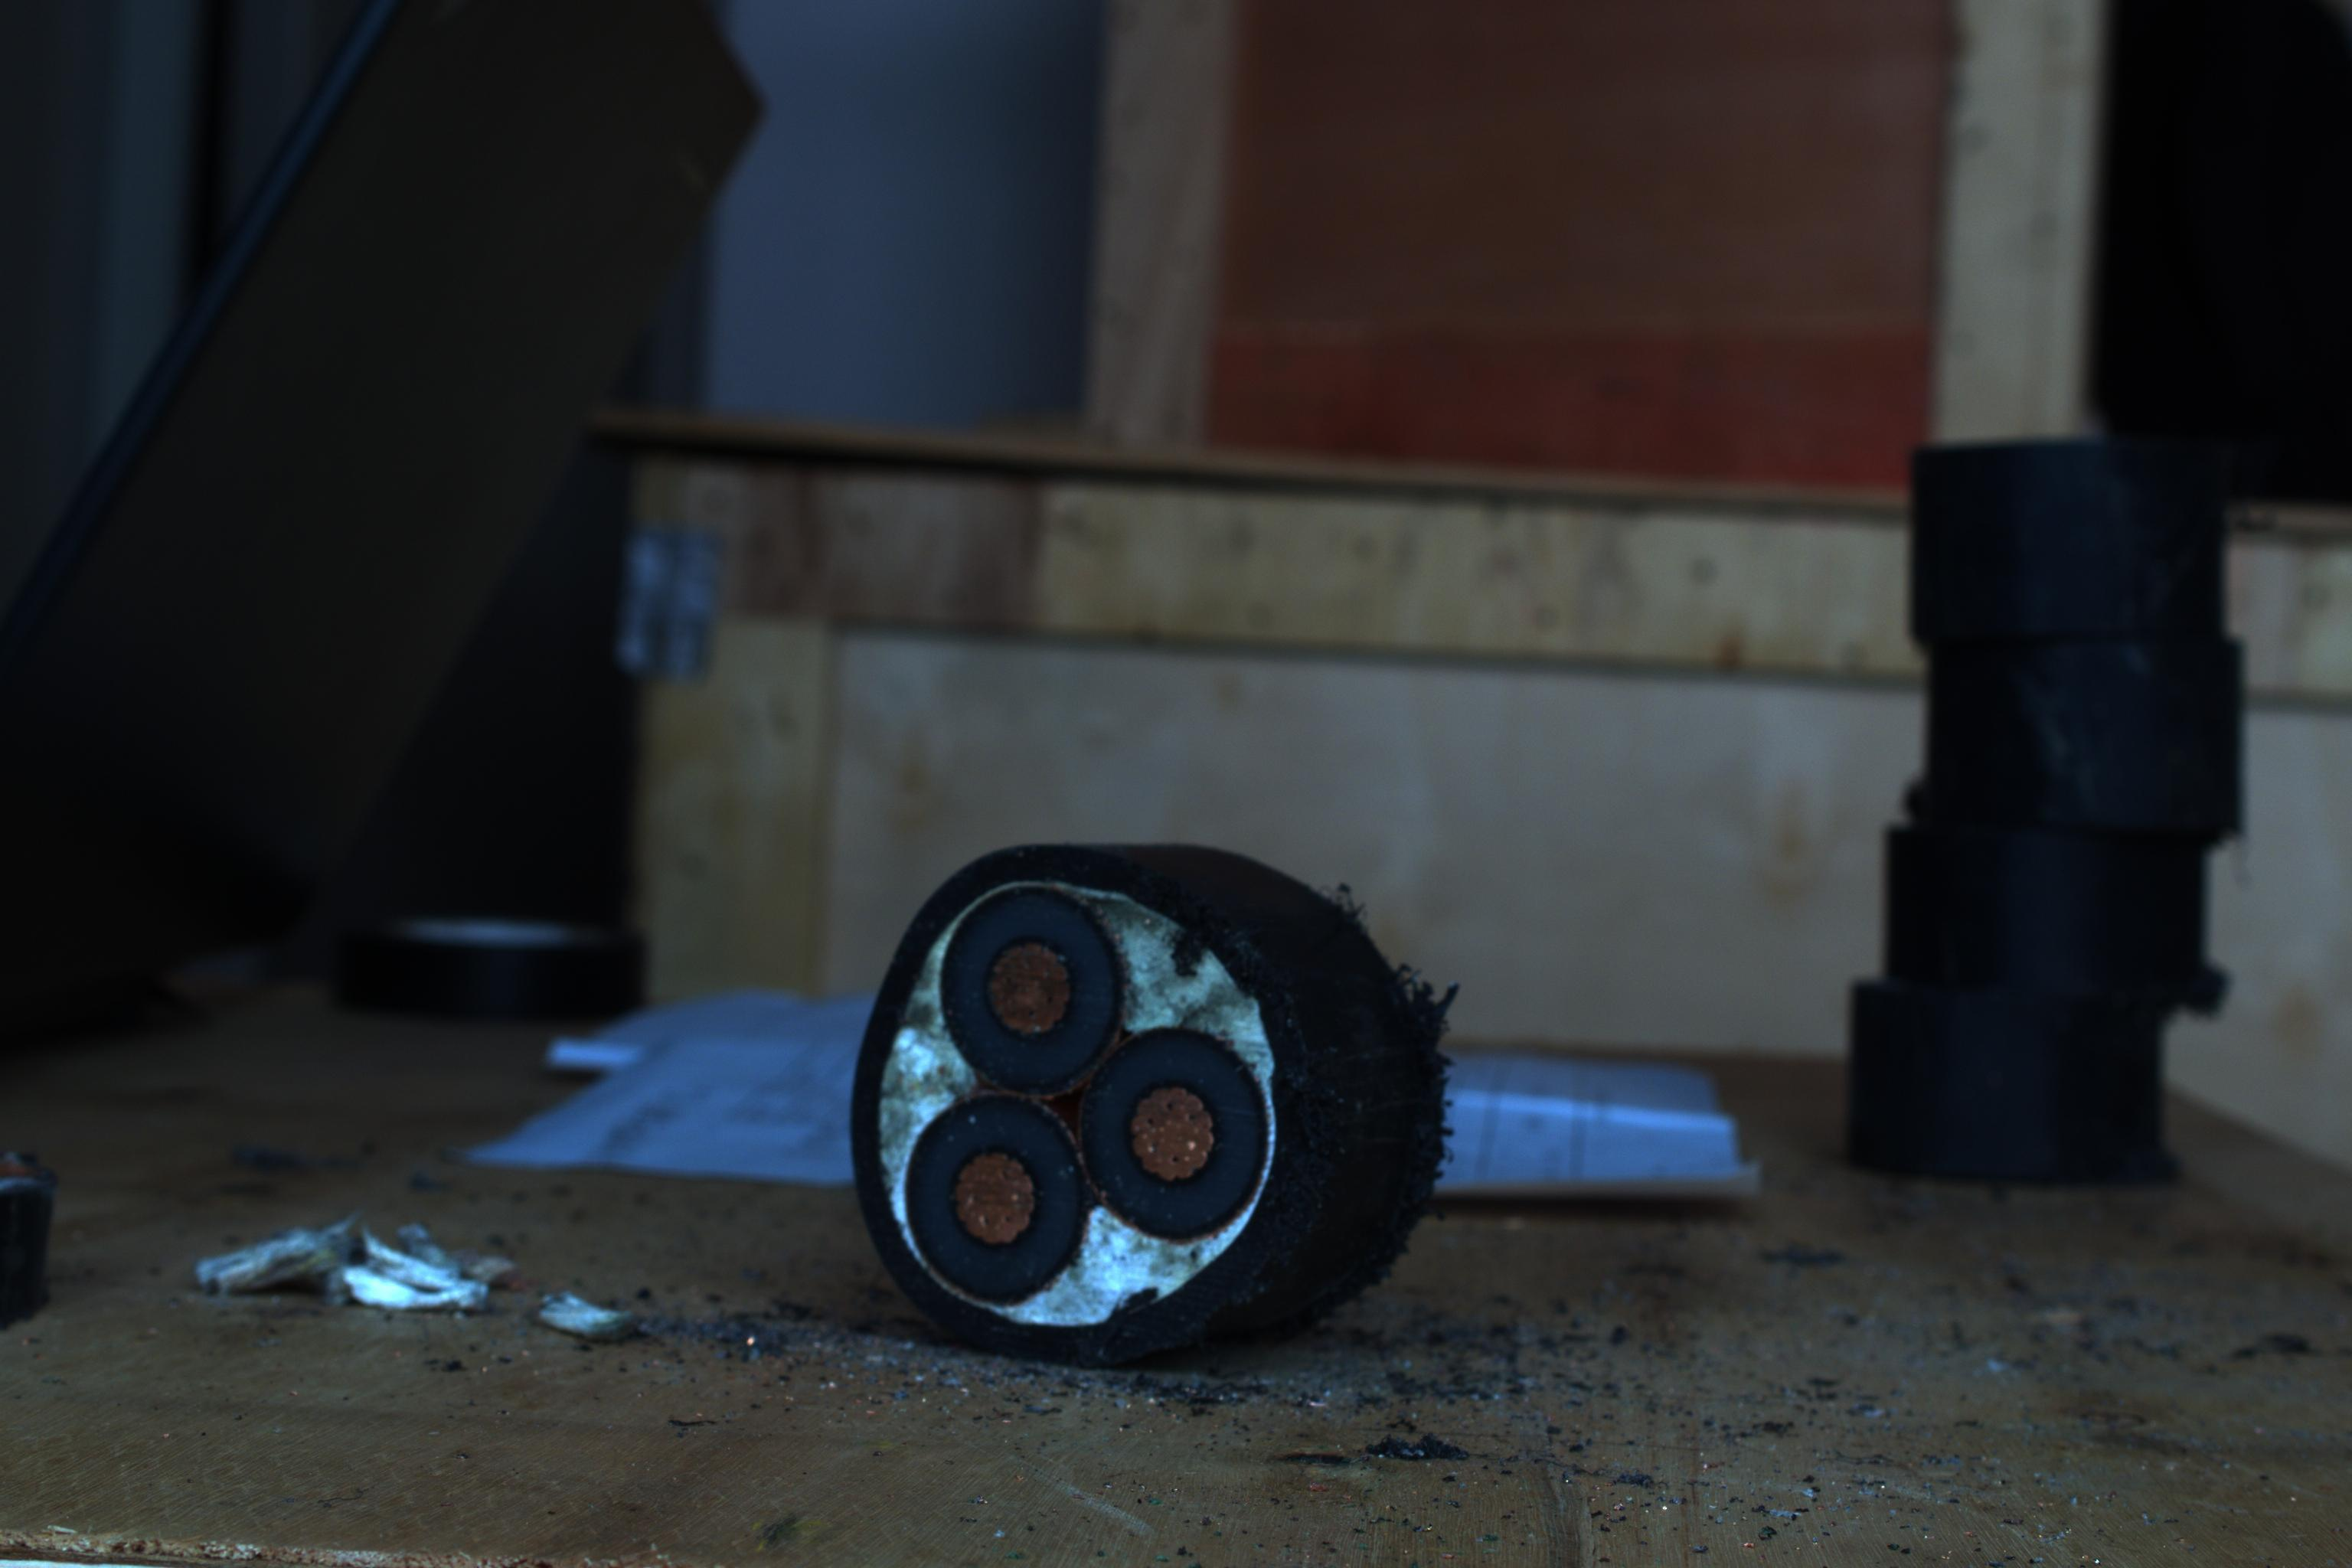YJV_8.7_10kV_3x70: (849, 864, 1302, 1342)
